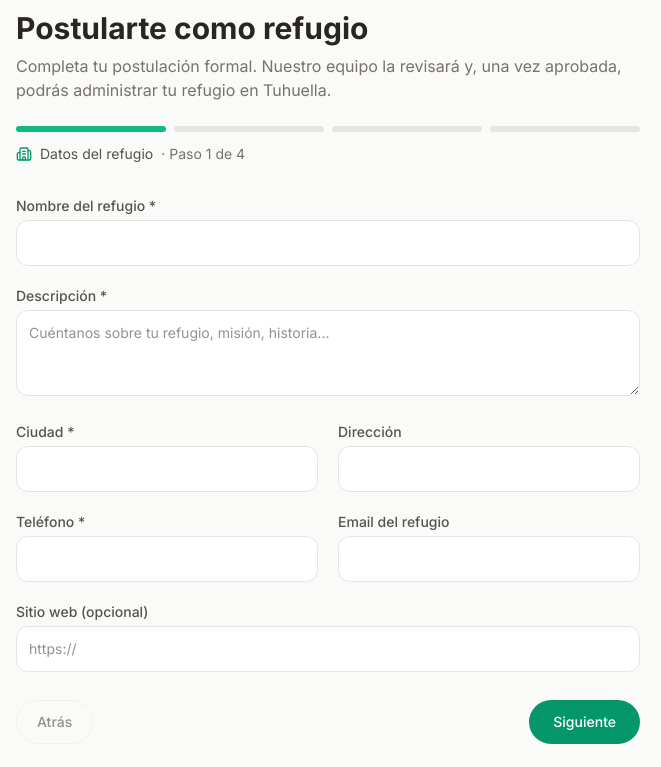
Test: ShelterApplicationPage › blocks advancing to step 2 if step 1 fields are missing
Click the button "Siguiente": (585, 722) [529,700,640,744]
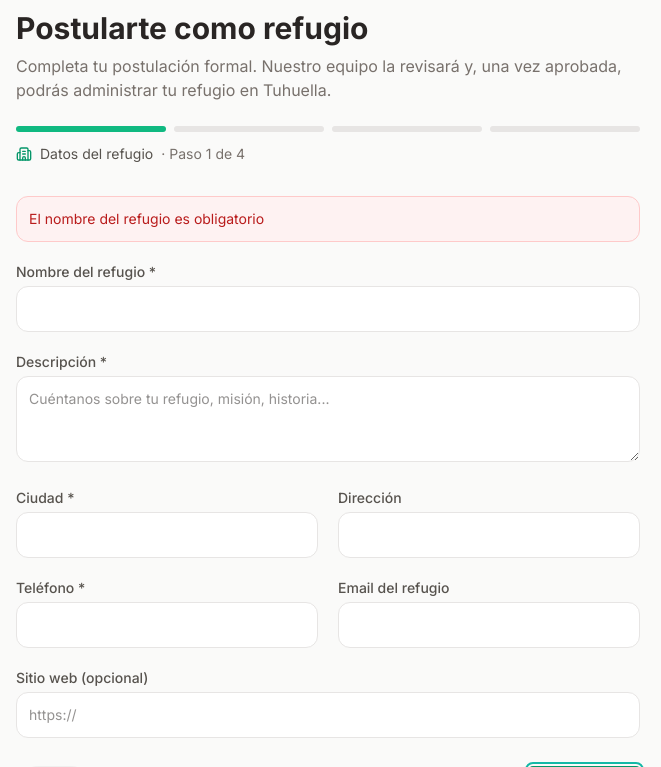
Check: the text "El nombre del refugio es obligatorio" is shown, box [16,196,640,242]
